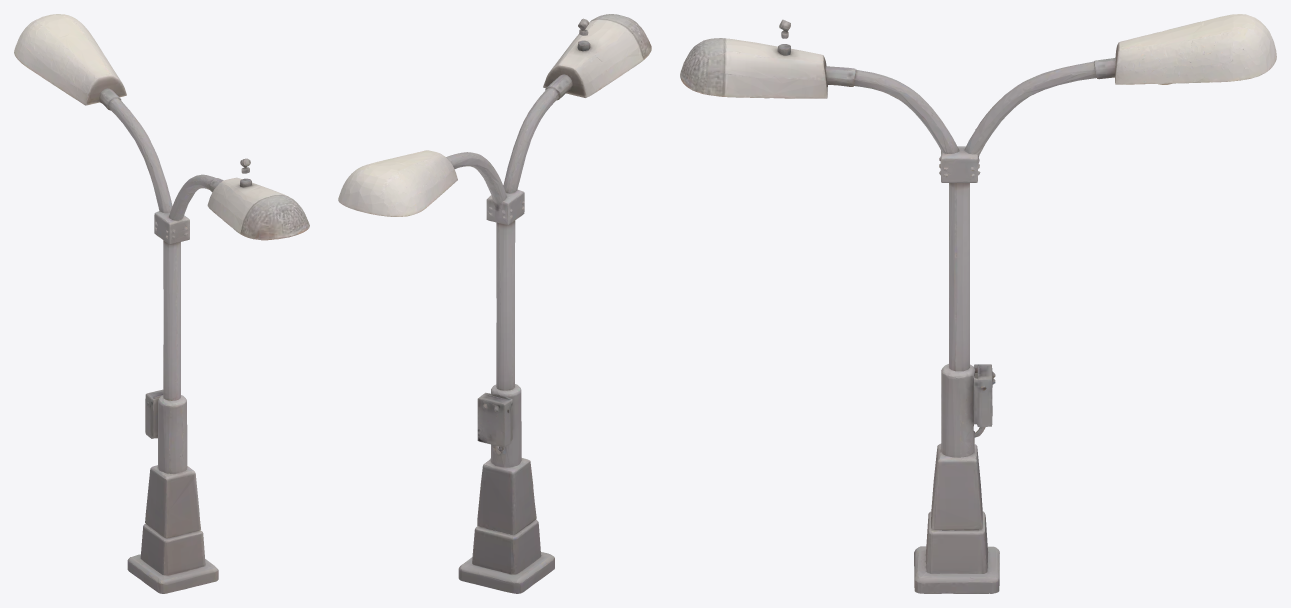
The model's file is lightpost-tall.glb.
3 renders of one model, left to right at view 1: azimuth 30°, elevation 25°; view 2: azimuth 150°, elevation 25°; view 3: azimuth 270°, elevation 25°, orthographic. The views are drawn at different scales.
Parts seen in each view (by area): view 1: geometry_0; view 2: geometry_0; view 3: geometry_0.
Part boxes in pixels (box(x1,y1,x2,y2)): geometry_0: box(14, 14, 309, 593); geometry_0: box(338, 14, 651, 593); geometry_0: box(680, 14, 1276, 593).
Size of the model in its own units: 0.1601 by 1 by 0.9734.
1 material, 1 textured.
